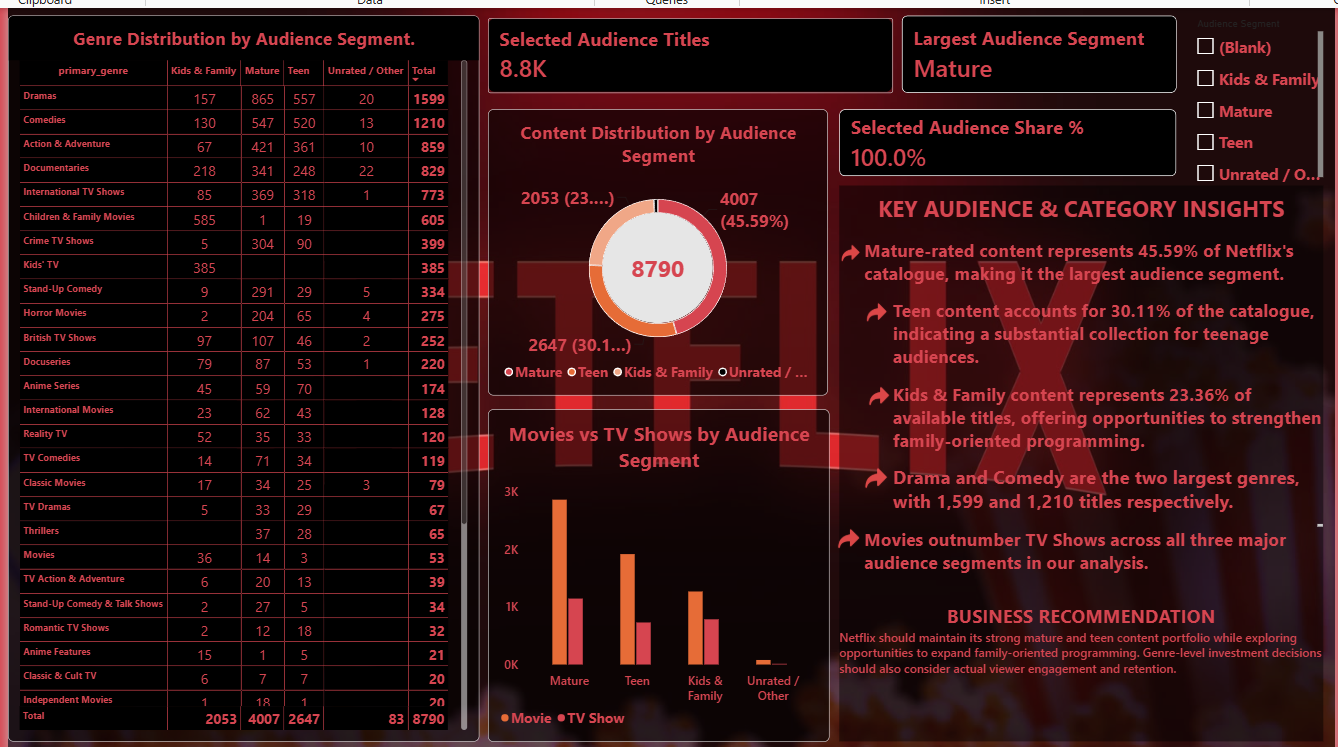

Layout of this report page (visuals, bound fields, positions):
{"tool":"powerbi","page":{"name":"Audience & Category Intelligence","canvas":[1920,1080],"ordinal":2},"visuals":[{"type":"donutChart","title":"Content Distribution by Audience Segment","fields":{"Category":["netflix_cleaned.Audience Segment"],"Y":["CountNonNull(netflix_cleaned.show_id)"]},"box":[694.9,146.6,492.2,414.4],"z":0},{"type":"clusteredColumnChart","title":"Movies vs TV Shows by Audience Segment","fields":{"Category":["netflix_cleaned.Audience Segment"],"Series":["netflix_cleaned.type"],"Y":["Count(netflix_cleaned.show_id)"]},"box":[694.9,580.9,494,481.4],"z":1},{"type":"cardVisual","fields":{"Data":["netflix_cleaned.Largest Audience Segment"]},"box":[1293.9,10.9,398.1,112.2],"z":2},{"type":"pivotTable","title":"Genre Distribution by Audience Segment.","fields":{"Columns":["netflix_cleaned.Audience Segment"],"Rows":["netflix_cleaned.primary_genre"],"Values":["netflix_cleaned.Total Titles"]},"box":[0,10.9,682.2,1051.4],"z":4},{"type":"slicer","fields":{"Values":["netflix_cleaned.Audience Segment"]},"box":[1713.7,14.5,190,242.5],"z":5},{"type":"cardVisual","title":"Titles in Selected Audience.","fields":{"Data":["netflix_cleaned.Selected Audience Titles"]},"box":[694.9,14.5,586.3,108.6],"z":6},{"type":"cardVisual","fields":{"Data":["netflix_cleaned.Selected Audience Share %"]},"box":[1203.4,146.6,488.6,97.7],"z":7},{"type":"textbox","title":"KEY AUDIENCE & CATEGORY INSIGHTS","box":[1203.3,257.5,701.2,805.1],"z":8},{"type":"textbox","title":"Mature-rated content represents 45.59% of Netflix''s catalogue, making it the largest audience segment.","box":[1240.1,333.3,664.4,127.7],"z":9},{"type":"textbox","title":"Teen content accounts for 30.11% of the catalogue, indicating a substantial collection for teenage audiences.","box":[1281.2,419.8,622.5,141.2],"z":10},{"type":"textbox","title":"Kids & Family content represents 23.36% of available titles, offering opportunities to strengthen family-oriented programming.","box":[1281.2,541.1,622.5,159.3],"z":11},{"type":"textbox","title":"Drama and Comedy are the two largest genres, with 1,599 and 1,210 titles respectively.","box":[1281.2,660.5,622.5,90.5],"z":12},{"type":"textbox","box":[100,100,300,300],"z":13},{"type":"textbox","title":"Movies outnumber TV Shows across all three major audience segments in our analysis.","box":[1240.1,751,664.4,71.4],"z":14},{"type":"textbox","title":"BUSINESS RECOMMENDATION","box":[1203.4,861.4,700.3,219],"z":15},{"type":"image","box":[1203.4,338.4,32.6,32.6],"z":16},{"type":"image","box":[1239.6,419.8,36.2,41.6],"z":17},{"type":"image","box":[1243.2,533.8,36.2,56.1],"z":18},{"type":"image","box":[1232.4,660.5,48.9,39.8],"z":19},{"type":"image","box":[1198,727.5,38,81.4],"z":20}]}

Visuals, with their boxes on the page's 1920x1080 design canvas (x1, y1, x2, y2). These are canvas units, not pixel positions in the 1338x747 screenshot, which may show the page scaled, cropped or inside an application window:
"Content Distribution by Audience Segment" donutChart: region(695, 147, 1187, 561)
"Movies vs TV Shows by Audience Segment" clusteredColumnChart: region(695, 581, 1189, 1062)
cardVisual - netflix_cleaned.Largest Audience Segment: region(1294, 11, 1692, 123)
"Genre Distribution by Audience Segment." pivotTable: region(0, 11, 682, 1062)
slicer - netflix_cleaned.Audience Segment: region(1714, 14, 1904, 257)
"Titles in Selected Audience." cardVisual: region(695, 14, 1281, 123)
cardVisual - netflix_cleaned.Selected Audience Share %: region(1203, 147, 1692, 244)
"KEY AUDIENCE & CATEGORY INSIGHTS" textbox: region(1203, 258, 1904, 1063)
"Mature-rated content represents 45.59% of Netflix''s catalogue, making it the largest audience segment." textbox: region(1240, 333, 1904, 461)
"Teen content accounts for 30.11% of the catalogue, indicating a substantial collection for teenage audiences." textbox: region(1281, 420, 1904, 561)
"Kids & Family content represents 23.36% of available titles, offering opportunities to strengthen family-oriented programming." textbox: region(1281, 541, 1904, 700)
"Drama and Comedy are the two largest genres, with 1,599 and 1,210 titles respectively." textbox: region(1281, 660, 1904, 751)
textbox: region(100, 100, 400, 400)
"Movies outnumber TV Shows across all three major audience segments in our analysis." textbox: region(1240, 751, 1904, 822)
"BUSINESS RECOMMENDATION" textbox: region(1203, 861, 1904, 1080)
image: region(1203, 338, 1236, 371)
image: region(1240, 420, 1276, 461)
image: region(1243, 534, 1279, 590)
image: region(1232, 660, 1281, 700)
image: region(1198, 728, 1236, 809)
